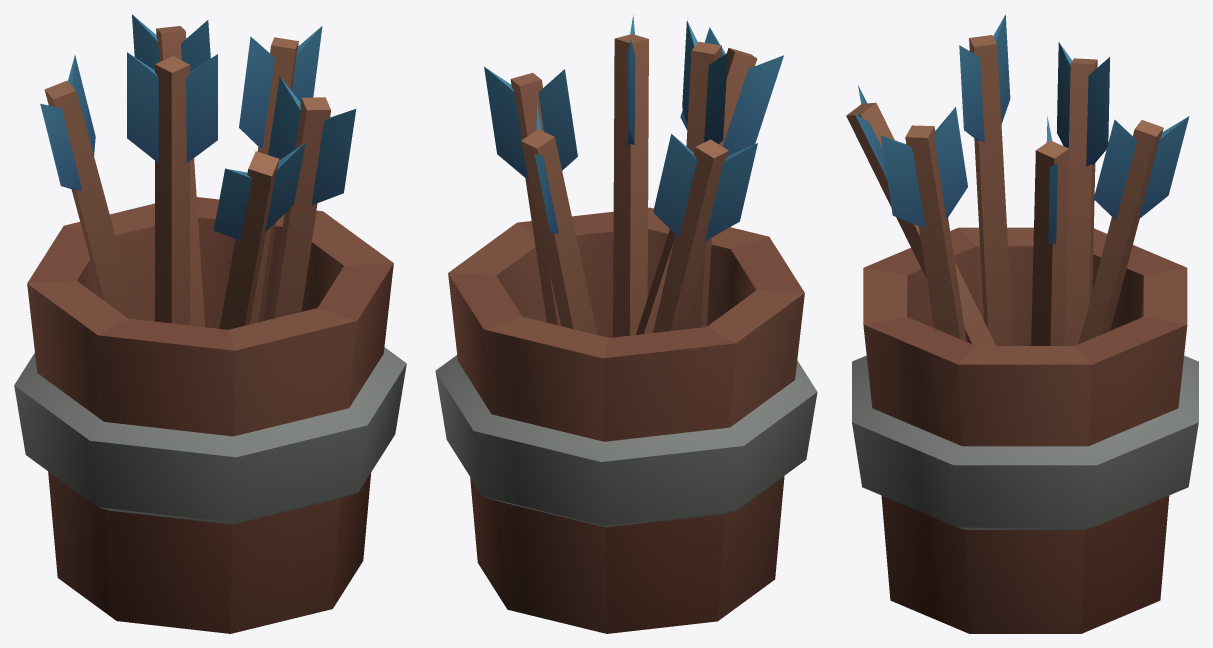
The model's file is bucket-arrows.glb.
3 renders of one model, left to right at view 1: azimuth 30°, elevation 25°; view 2: azimuth 150°, elevation 25°; view 3: azimuth 270°, elevation 25°, orthographic. The views are drawn at different scales.
Parts seen in each view (by area): view 1: bucket-arrows; view 2: bucket-arrows; view 3: bucket-arrows.
Part boxes in pixels (x1,y1,x2,y2): bucket-arrows: (14,14,406,633); bucket-arrows: (435,15,817,633); bucket-arrows: (846,14,1198,633).
Bounding box in the file's own units: 0.4237 × 0.7 × 0.4308.
